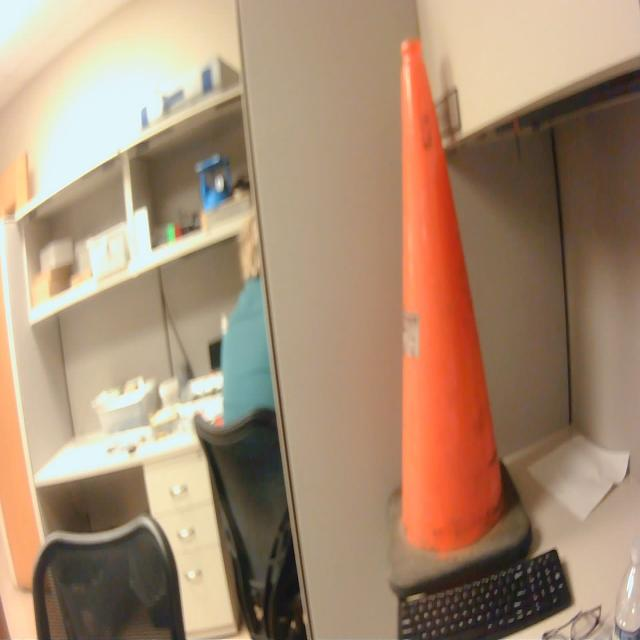traffic cone: (381, 31, 536, 601)
